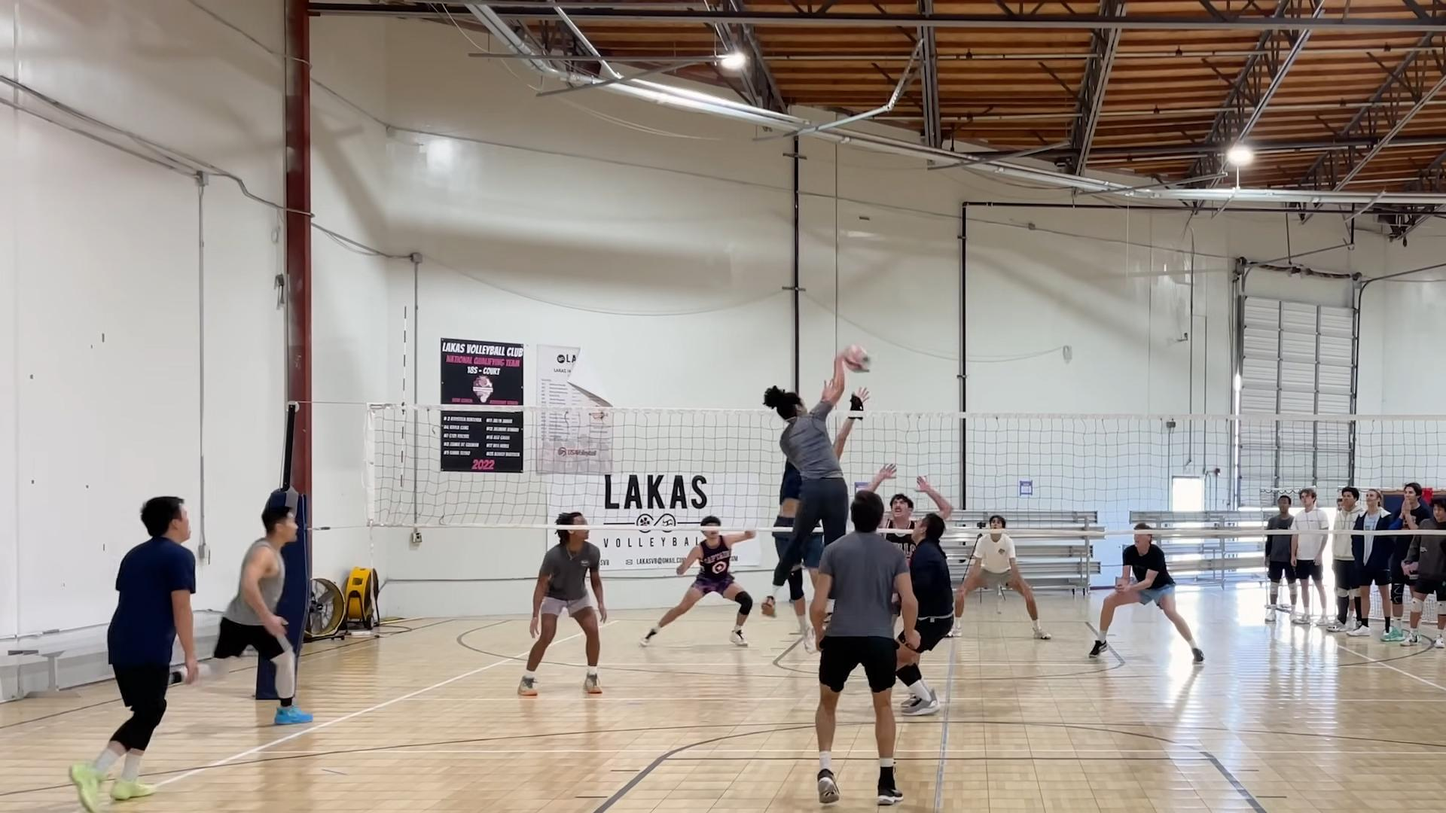attacco: (761, 354, 852, 617)
muro: (757, 423, 825, 648)
